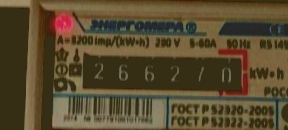0: (220, 63, 235, 84)
2: (93, 59, 107, 80), (170, 62, 184, 83)
6: (118, 60, 131, 82), (144, 62, 158, 81)
7: (196, 63, 207, 82)
screen: (72, 42, 256, 100)
